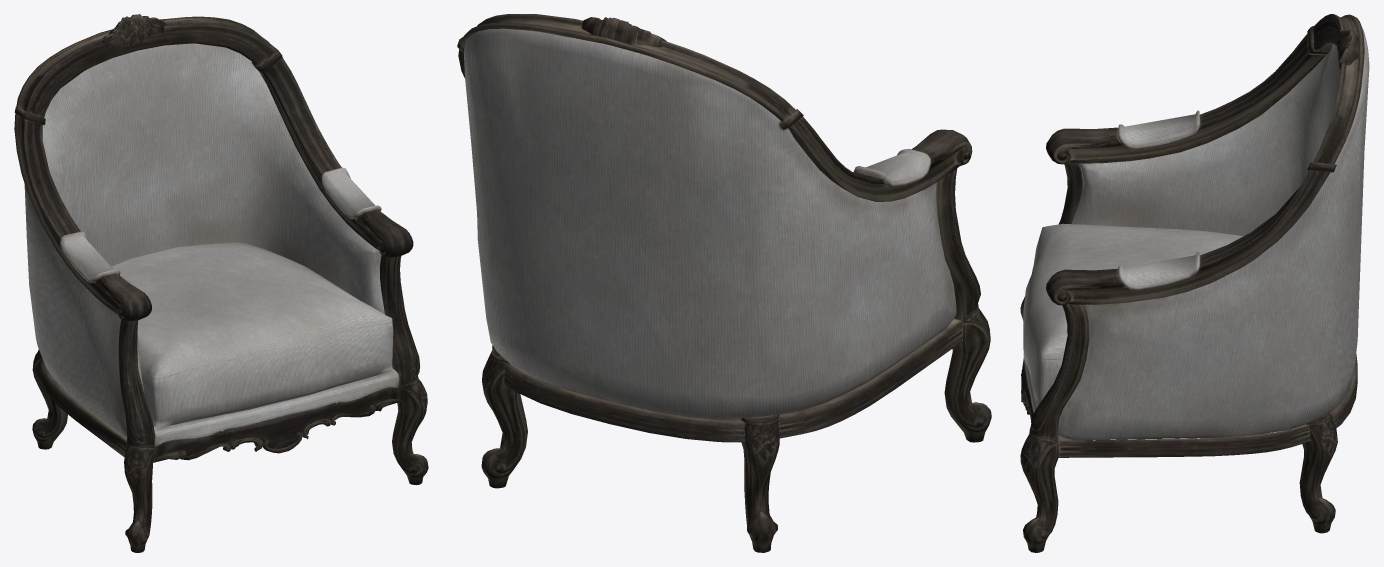
The model's file is ArmChair_01.glb.
The picture shows the model from 3 angles, left to right: view 1: azimuth 30°, elevation 25°; view 2: azimuth 150°, elevation 25°; view 3: azimuth 270°, elevation 25°; orthographic projection. The views are drawn at different scales.
Visible parts, largest first — view 1: ArmChair_01; view 2: ArmChair_01; view 3: ArmChair_01.
Boxes of the visible parts, x1,y1,x2,y2 form: ArmChair_01: (14,14,428,552); ArmChair_01: (457,14,991,552); ArmChair_01: (1020,14,1369,552).
Bounding box in the file's own units: 0.8482 × 1.06 × 0.7658.
Materials: 1 (1 with a texture image).
